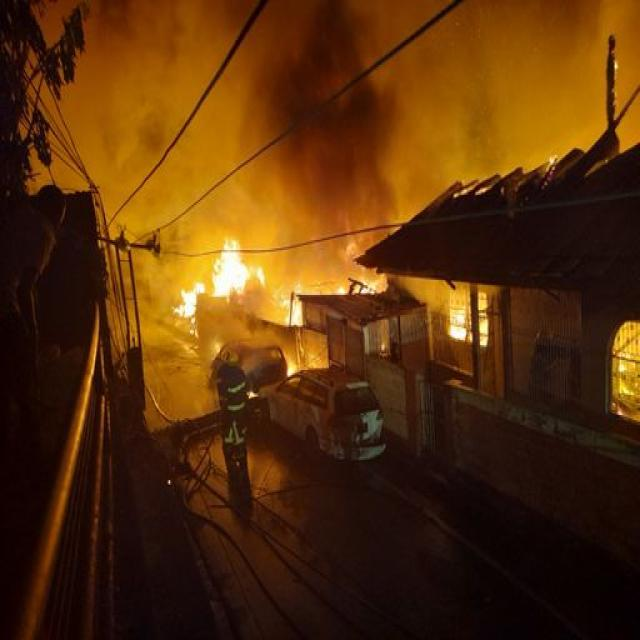Fire: (199, 254, 291, 316), (442, 278, 500, 359)
Smoke: (85, 2, 640, 256)
